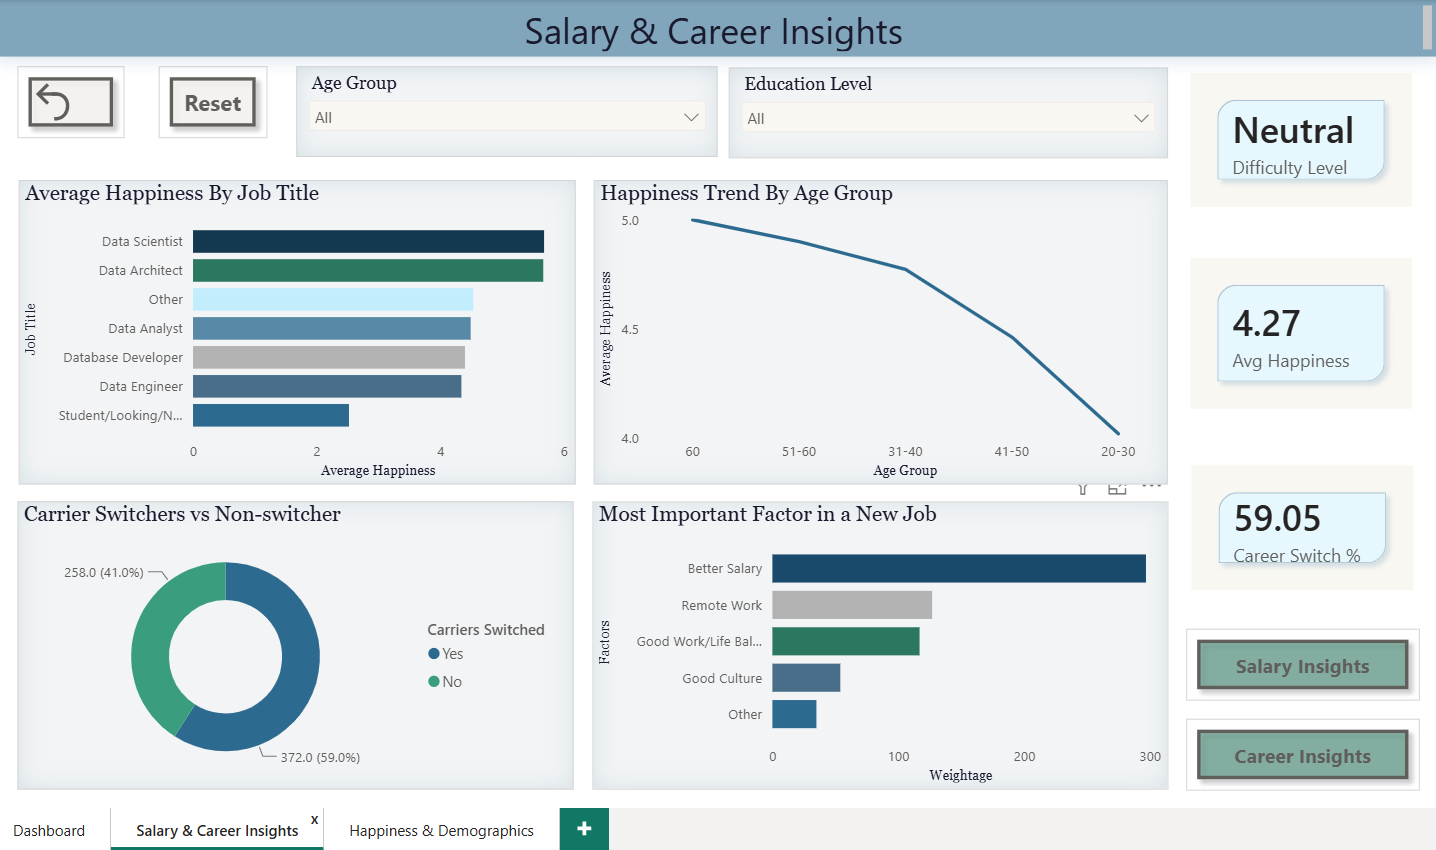

The page's visual inventory and layout, read from the dashboard file:
{"tool":"powerbi","page":{"name":"Salary & Career Insights","canvas":[1280,720],"ordinal":1},"visuals":[{"type":"donutChart","title":"Carrier Switchers vs Non-switcher","fields":{"Category":["Data Professional Survey.Q2 - Did you switch careers into Data?"],"Y":["CountNonNull(Data Professional Survey.Q2 - Did you switch careers into Data?)"]},"box":[16.1,446.9,495.3,256.9],"z":2000},{"type":"barChart","title":"Most Important Factor in a New Job","fields":{"Category":["Data Professional Survey.Q8 - If you were to look for a new job today, what would be the most important t"],"Y":["CountNonNull(Data Professional Survey.Q8 - If you were to look for a new job today, what would be the most important t)"]},"box":[527.5,446.9,512.7,256.9],"z":3000},{"type":"cardVisual","fields":{"Data":["Data Professional Survey.Average Happiness"]},"box":[1055.6,224.4,207.5,144.8],"z":5000},{"type":"cardVisual","fields":{"Data":["Data Professional Survey.Career Switch %"]},"box":[1056.8,410.2,207.5,121.9],"z":6000},{"type":"slicer","fields":{"Values":["Data Professional Survey.Age Group"]},"box":[264.2,59.1,375.2,80.8],"z":7000},{"type":"slicer","fields":{"Values":["Data Professional Survey.Q12 - Highest Level of Education"]},"box":[649.1,60.3,390.9,80.8],"z":8000},{"type":"actionButton","box":[141.2,59.1,96.5,63.9],"z":9000},{"type":"actionButton","box":[15.7,59.1,95.3,63.9],"z":10000},{"type":"actionButton","box":[1056,560,208,64],"z":11000},{"type":"actionButton","box":[1056,640,208,64],"z":12000},{"type":"barChart","title":"Average Happiness By Job Title","fields":{"Category":["Data Professional Survey.Q1 - Which Title Best Fits your Current Role?"],"Y":["Data Professional Survey.Average Happiness"]},"box":[16.9,160.5,495.8,271.4],"z":17000},{"type":"lineChart","title":"Happiness Trend By Age Group","fields":{"Category":["Data Professional Survey.Age Group"],"Y":["Data Professional Survey.Average Happiness"]},"box":[528.4,160.5,511.5,271.4],"z":18000},{"type":"cardVisual","fields":{"Data":["Data Professional Survey.Difficulty Level"]},"box":[1055.6,60.3,207.5,129.1],"z":19000},{"type":"textbox","box":[0,0,1280,50.7],"z":21000}]}

Visuals, with their boxes on the page's 1280x720 design canvas (x1, y1, x2, y2). These are canvas units, not pixel positions in the 1436x850 screenshot, which may show the page scaled, cropped or inside an application window:
"Carrier Switchers vs Non-switcher" donutChart: BBox(16, 447, 511, 704)
"Most Important Factor in a New Job" barChart: BBox(528, 447, 1040, 704)
cardVisual - Data Professional Survey.Average Happiness: BBox(1056, 224, 1263, 369)
cardVisual - Data Professional Survey.Career Switch %: BBox(1057, 410, 1264, 532)
slicer - Data Professional Survey.Age Group: BBox(264, 59, 639, 140)
slicer - Data Professional Survey.Q12 - Highest Level of Education: BBox(649, 60, 1040, 141)
actionButton: BBox(141, 59, 238, 123)
actionButton: BBox(16, 59, 111, 123)
actionButton: BBox(1056, 560, 1264, 624)
actionButton: BBox(1056, 640, 1264, 704)
"Average Happiness By Job Title" barChart: BBox(17, 160, 513, 432)
"Happiness Trend By Age Group" lineChart: BBox(528, 160, 1040, 432)
cardVisual - Data Professional Survey.Difficulty Level: BBox(1056, 60, 1263, 189)
textbox: BBox(0, 0, 1280, 51)
